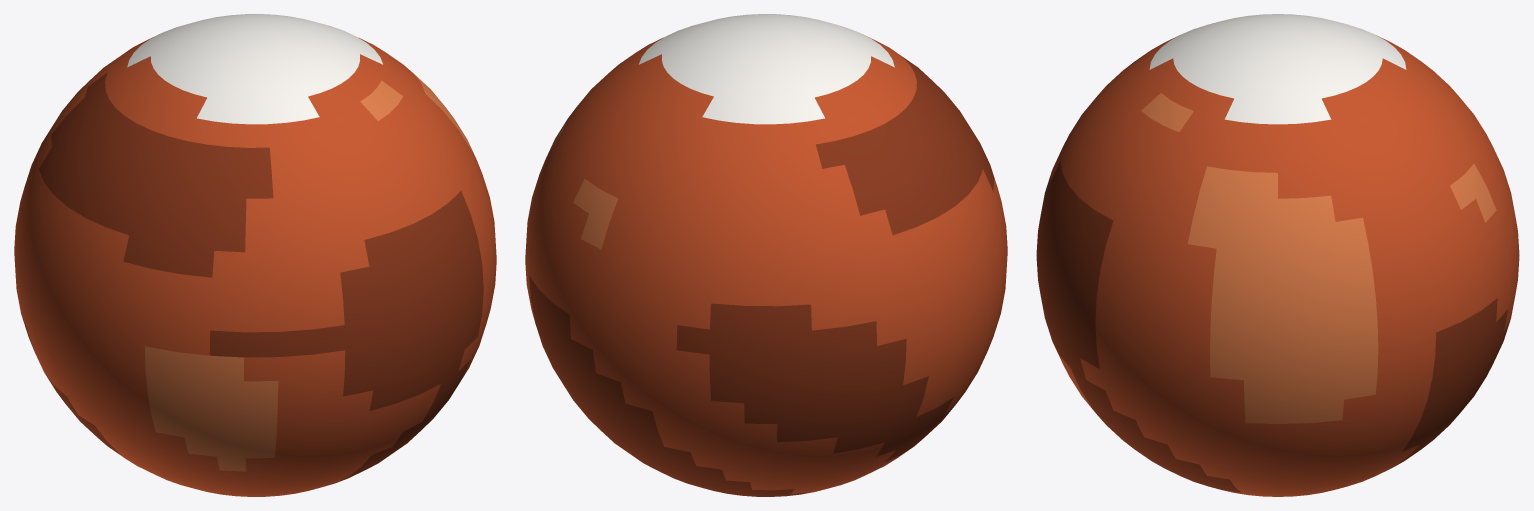
The model's file is mars.glb.
The picture shows the model from 3 angles, left to right: view 1: azimuth 30°, elevation 25°; view 2: azimuth 150°, elevation 25°; view 3: azimuth 270°, elevation 25°; orthographic projection.
Parts seen in each view (by area): view 1: body; view 2: body; view 3: body.
Boxes of the visible parts, <box> form: body: <box>14,14,496,496</box>; body: <box>525,14,1007,496</box>; body: <box>1036,14,1519,496</box>.
Bounding box in the file's own units: 200 × 200 × 200.
